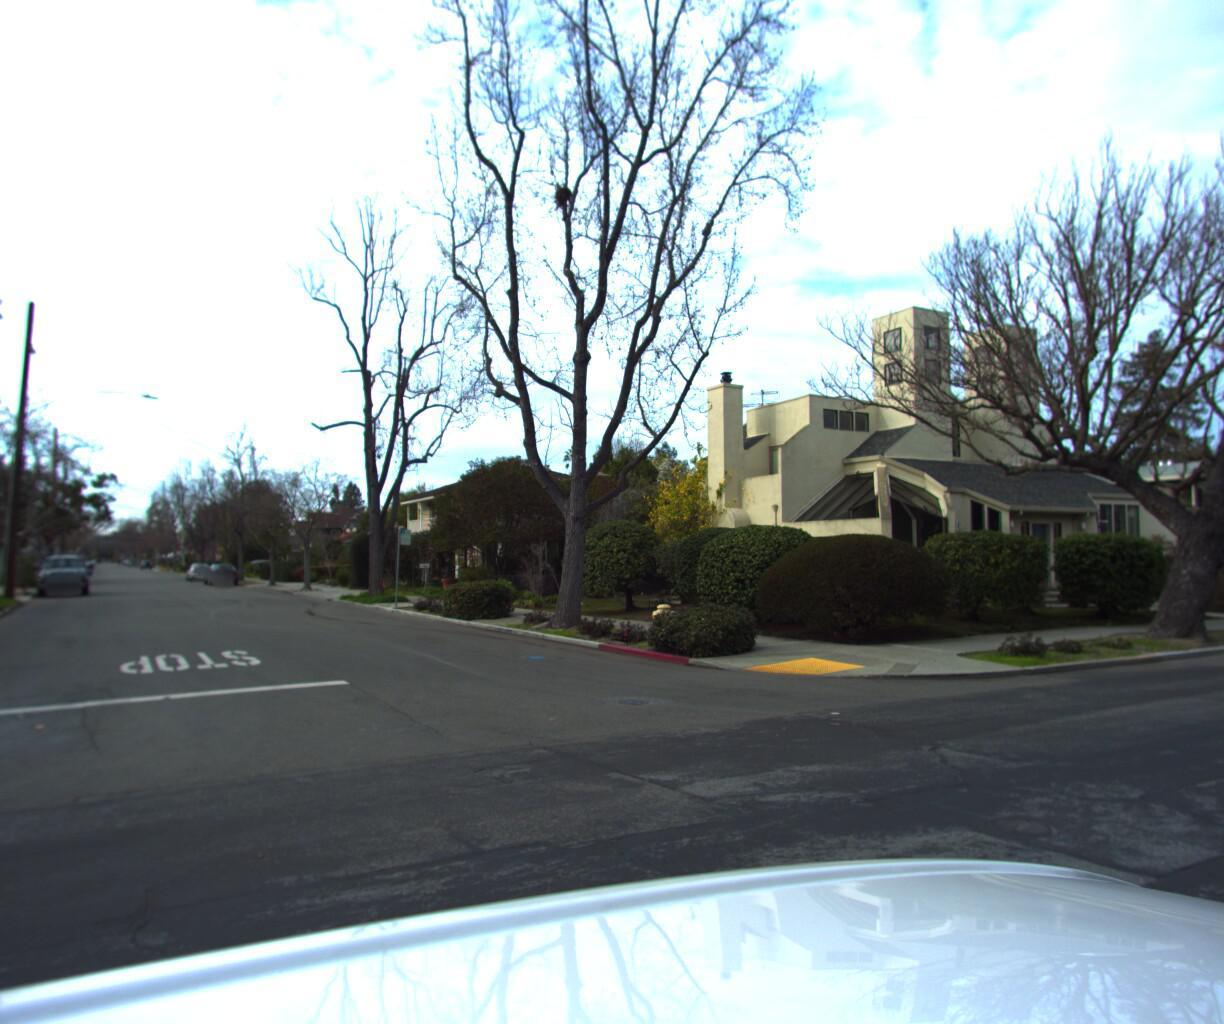car: (38, 548, 96, 598), (242, 558, 298, 576), (204, 560, 244, 583), (186, 558, 216, 579)
